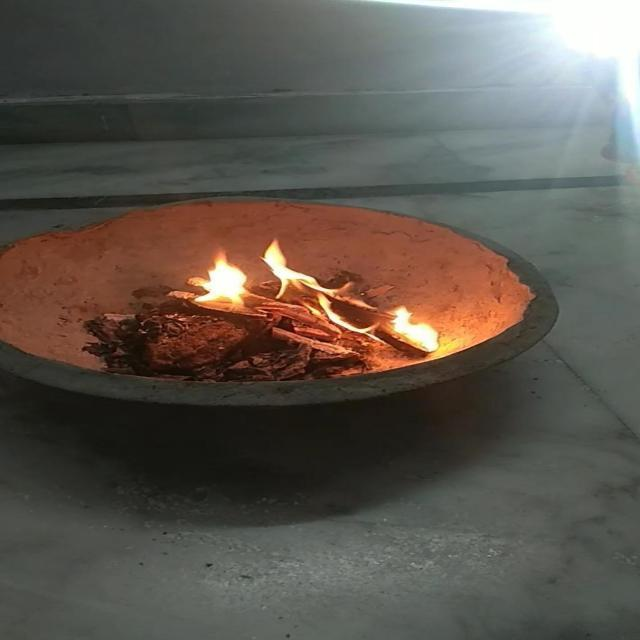smoke: (259, 234, 348, 312), (178, 250, 257, 312), (390, 299, 450, 354)
